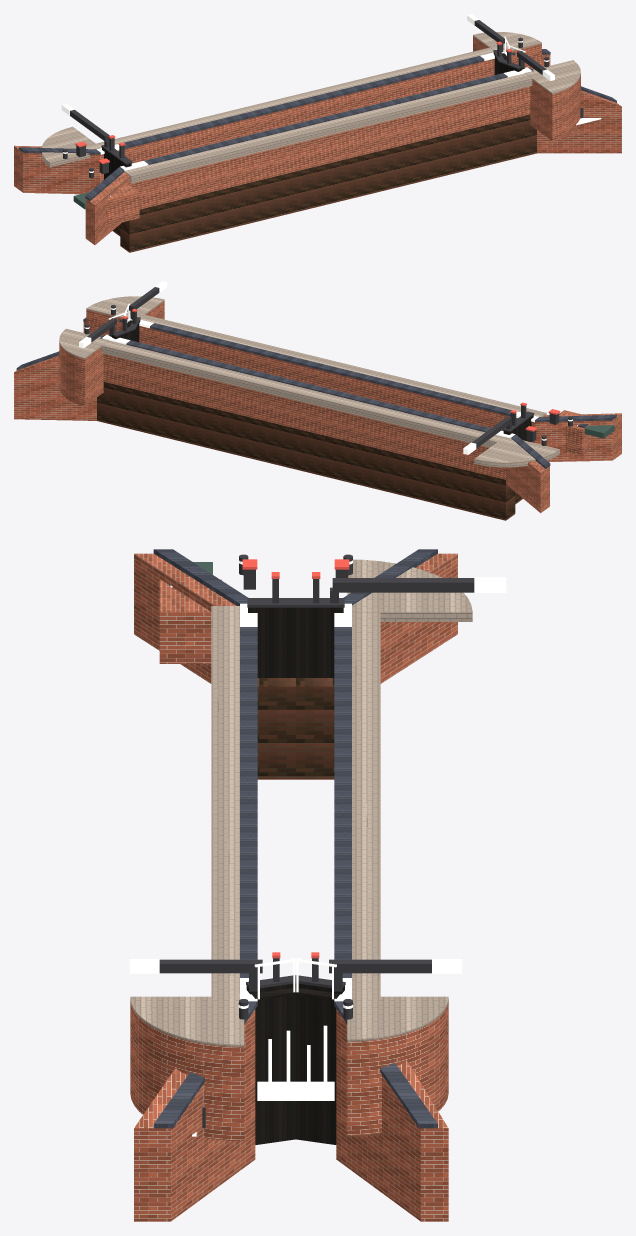
The model's file is lock-42.glb.
3 renders of one model, top to bottom at view 1: azimuth 30°, elevation 25°; view 2: azimuth 150°, elevation 25°; view 3: azimuth 270°, elevation 25°, orthographic. The views are drawn at different scales.
Visible parts, largest first — view 1: Chamber, ChamberWet, Edge, Coping.001, TopGateCap, Coping, TopGate; view 2: Chamber, ChamberWet, Edge, Coping.001, TopGateCap, Coping, TopGate; view 3: Chamber, Edge, Coping.001, TopGate, TopGateCap, ChamberWet, Coping, Leak.
Boxes of the visible parts, left/top/right/bottom form: Chamber: left=14, top=36, right=621, bottom=244; ChamberWet: left=112, top=114, right=536, bottom=252; Edge: left=42, top=32, right=580, bottom=183; Coping.001: left=19, top=49, right=616, bottom=200; TopGateCap: left=63, top=20, right=583, bottom=178; Coping: left=61, top=14, right=554, bottom=172; TopGate: left=102, top=52, right=524, bottom=179; Chamber: left=14, top=301, right=621, bottom=513; ChamberWet: left=97, top=382, right=522, bottom=520; Edge: left=59, top=296, right=559, bottom=467; Coping.001: left=16, top=317, right=616, bottom=468; TopGateCap: left=84, top=287, right=572, bottom=448; Coping: left=79, top=281, right=572, bottom=454; TopGate: left=108, top=320, right=533, bottom=442; Chamber: left=130, top=553, right=457, bottom=1221; Edge: left=130, top=559, right=472, bottom=1046; Coping.001: left=153, top=549, right=437, bottom=1128; TopGate: left=246, top=607, right=344, bottom=1144; TopGateCap: left=159, top=554, right=474, bottom=1128; ChamberWet: left=257, top=678, right=334, bottom=779; Coping: left=129, top=560, right=506, bottom=1008; Leak: left=170, top=585, right=334, bottom=1136.
Bounding box in the file's own units: 33.16 × 5.82 × 10.24.
11 materials, 8 textured.
